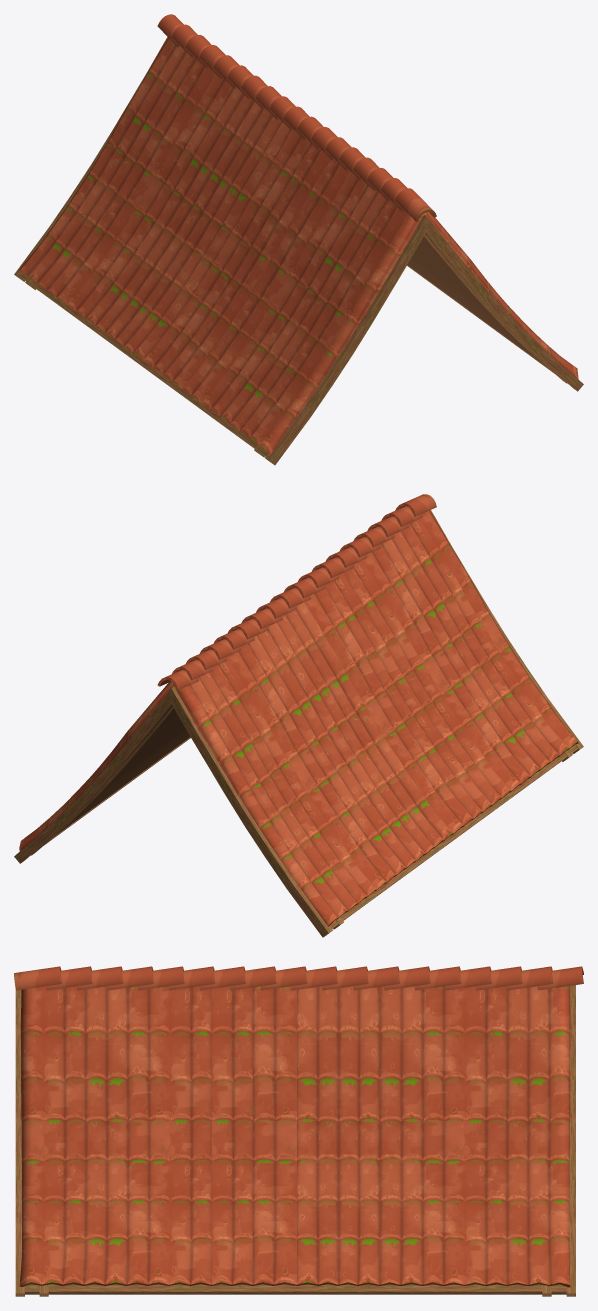
Rendered from Roof_RoundTiles_8x12.gltf.
3 views of the same model, one above another, from view 1: azimuth 30°, elevation 25°; view 2: azimuth 150°, elevation 25°; view 3: azimuth 270°, elevation 25° (orthographic). The views are drawn at different scales.
Visible parts, largest first — view 1: Roof_RoundTiles_8x12; view 2: Roof_RoundTiles_8x12; view 3: Roof_RoundTiles_8x12.
Part boxes in pixels (bbox=[...]): Roof_RoundTiles_8x12: bbox=[14, 14, 583, 465]; Roof_RoundTiles_8x12: bbox=[14, 494, 583, 937]; Roof_RoundTiles_8x12: bbox=[14, 966, 583, 1296].
Size of the model in its own units: 9.95 by 6.78 by 14.13.
2 materials, 2 textured.
